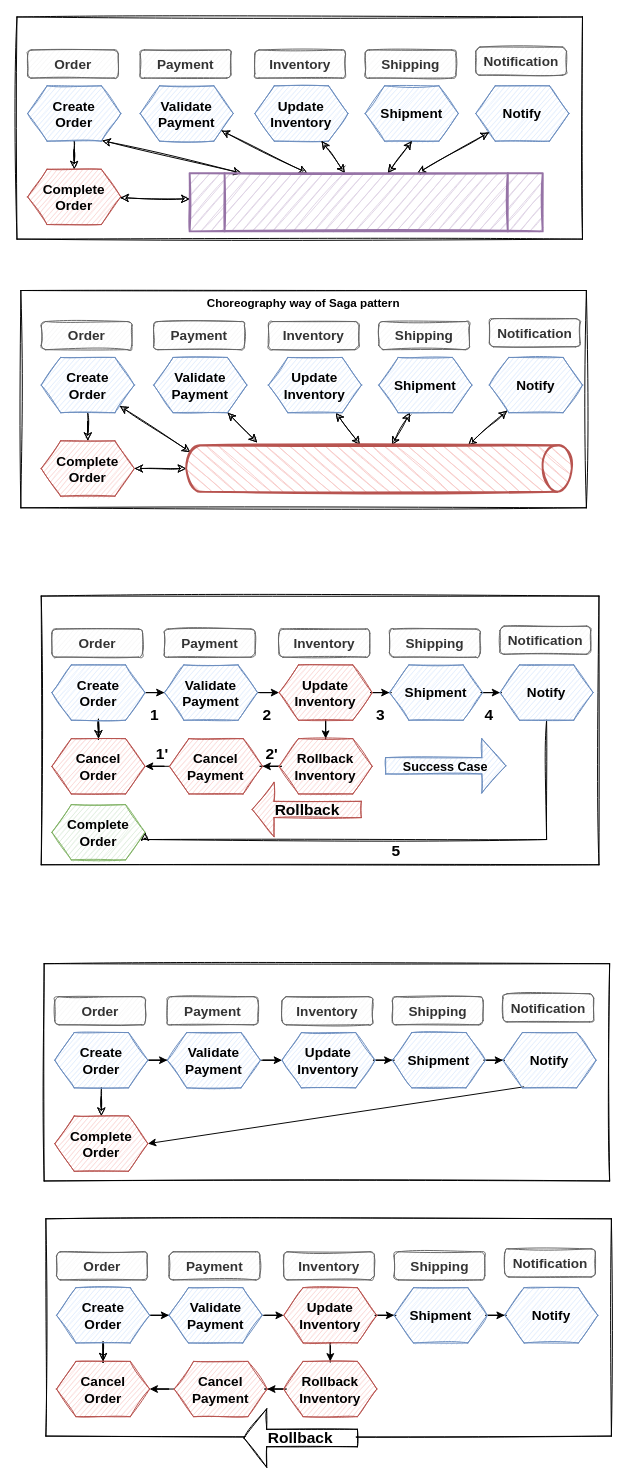
This 629x1484 diagram has some shape labels left out. Here are the shapes that lost their labels. From the top down, the box of each, then its label:
(16, 16, 582, 239): Orchestration way of Saga pattern
(188, 172, 543, 232): Orchestration
(185, 444, 572, 492): Message Broker
(40, 595, 599, 865): SAGA Pattern
(43, 963, 610, 1181): Microservices Distributed Transactions
(45, 1218, 611, 1436): Microservices Distributed Transactions - Rollback
